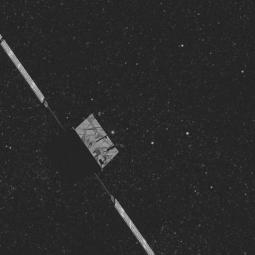smart_1: (28, 86, 135, 232)
